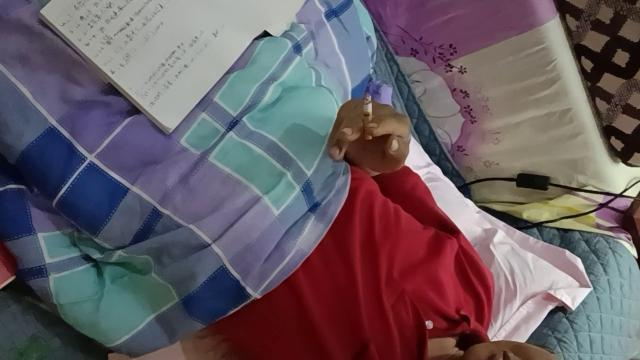Smoking: (362, 92, 372, 140)
